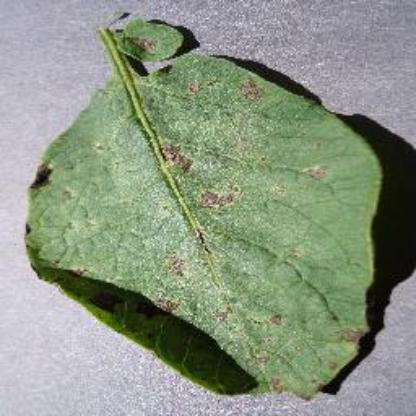Early-Blight: (23, 10, 388, 404)
